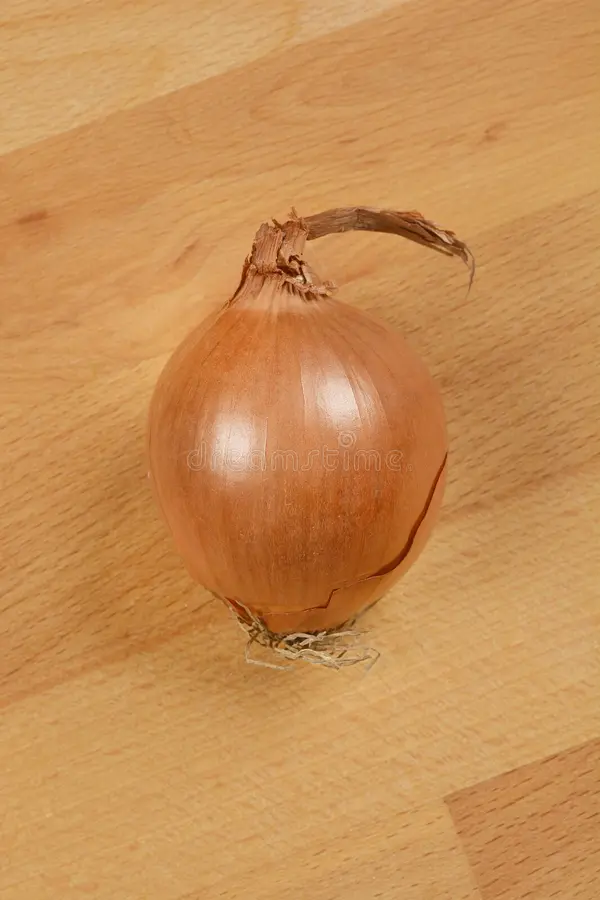onion: (124, 158, 462, 683)
